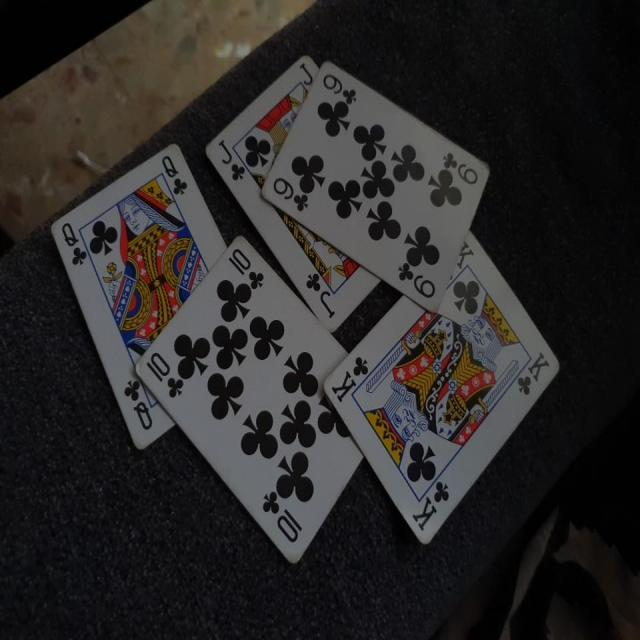10 Trefoils: (132, 235, 361, 564)
9 Trefoils: (258, 58, 491, 316)
J Trefoils: (202, 55, 382, 333)
K Trefoils: (325, 229, 561, 544)
Q Trefoils: (49, 141, 226, 450)
